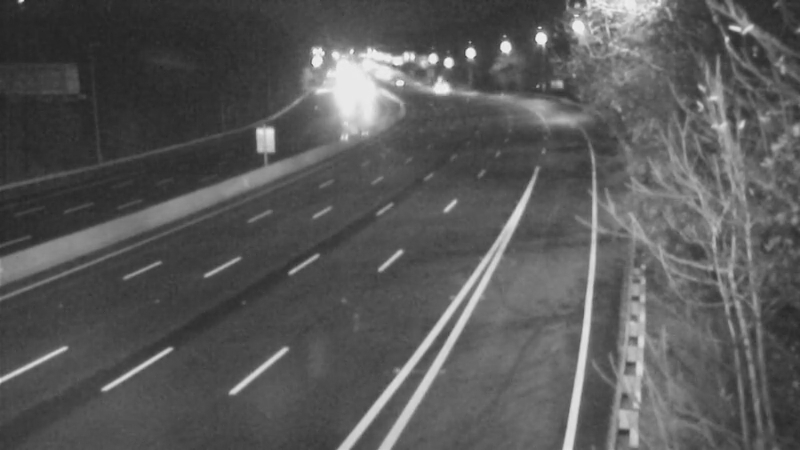vehicle: (377, 56, 427, 106), (416, 64, 466, 114)
